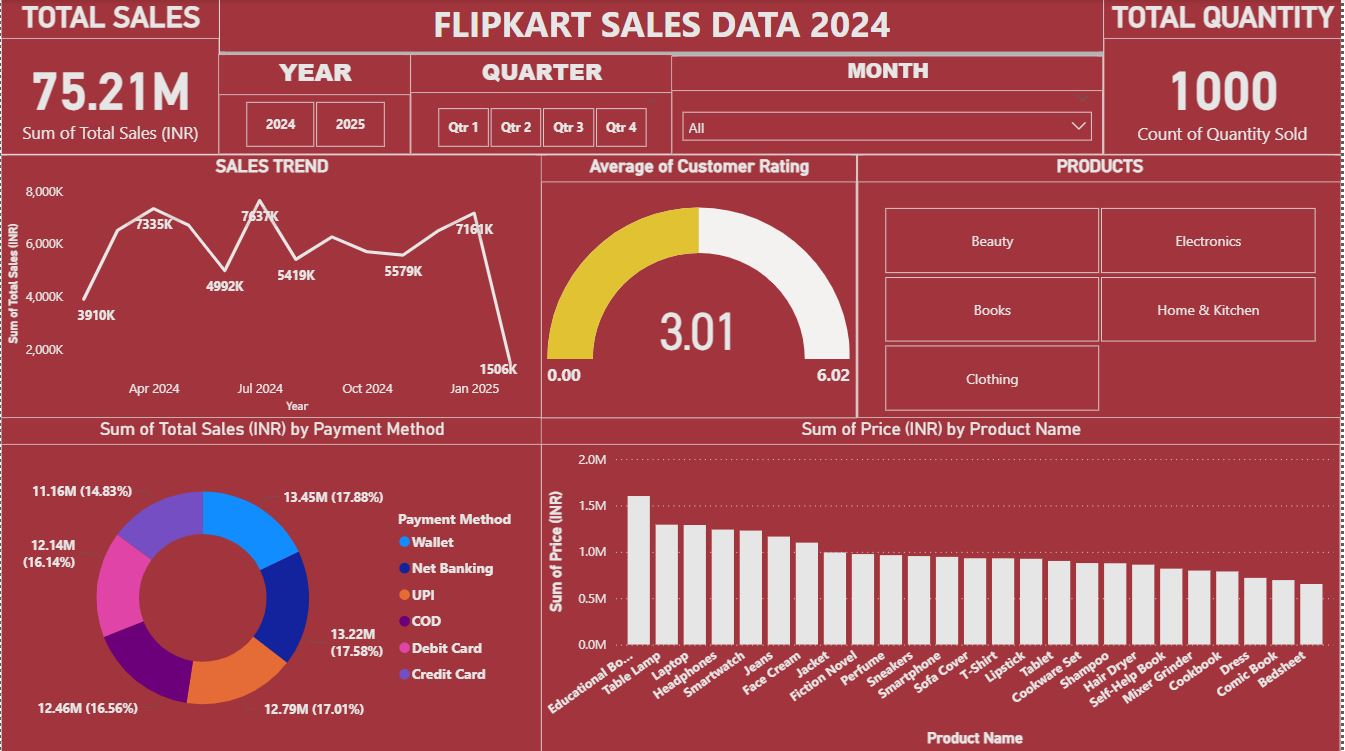

This screenshot's page, from the dashboard's own definition file:
{"tool":"powerbi","page":{"name":"Page 1","canvas":[1280,720],"ordinal":0},"visuals":[{"type":"textbox","title":"FLIPKART SALES DATA 2024","box":[209,0,843.4,54.5],"z":0},{"type":"card","title":"TOTAL SALES","fields":{"Values":["Sum(flipkart_sales.Total Sales (INR))"]},"box":[0,0,209,148.4],"z":1000},{"type":"card","title":"TOTAL QUANTITY","fields":{"Values":["CountNonNull(flipkart_sales.Quantity Sold)"]},"box":[1052.4,0,227.1,148.4],"z":2000},{"type":"slicer","title":"YEAR","fields":{"Values":["flipkart_sales.Order Date.Variation.Date Hierarchy.Year"]},"box":[207.4,53,183.2,95.4],"z":3000},{"type":"actionButton","box":[0,0,100,40],"z":4000},{"type":"slicer","title":"QUARTER","fields":{"Values":["flipkart_sales.Order Date.Variation.Date Hierarchy.Quarter"]},"box":[390.7,53,249.8,95.4],"z":5000},{"type":"slicer","title":"MONTH","fields":{"Values":["flipkart_sales.Order Date.Variation.Date Hierarchy.Month"]},"box":[640.5,54.5,411.9,93.9],"z":6000},{"type":"lineChart","title":"SALES TREND","fields":{"Category":["flipkart_sales.Order Date.Variation.Date Hierarchy.Year","flipkart_sales.Order Date.Variation.Date Hierarchy.Quarter","flipkart_sales.Order Date.Variation.Date Hierarchy.Month"],"Y":["Sum(flipkart_sales.Total Sales (INR))"]},"box":[0,148.4,516.3,251.4],"z":7000},{"type":"slicer","title":"PRODUCTS","fields":{"Values":["flipkart_sales.Category"]},"box":[817.7,148.4,461.8,251.4],"z":8000},{"type":"donutChart","title":"Sum of Total Sales (INR) by Payment Method","fields":{"Y":["Sum(flipkart_sales.Total Sales (INR))"],"Category":["flipkart_sales.Payment Method"]},"box":[0,399.8,516.3,319.5],"z":9000},{"type":"clusteredColumnChart","fields":{"Category":["flipkart_sales.Product Name"],"Y":["Sum(flipkart_sales.Price (INR))"]},"box":[516.3,399.8,763.2,319.5],"z":10000},{"type":"gauge","fields":{"Y":["Avg(flipkart_sales.Customer Rating)"]},"box":[516.3,148.4,301.3,251.4],"z":10002}]}

Visuals, with their boxes in screenshot pixels (x1, y1, x2, y2), scaled from the page's 1280x720 canvas onto the 1345x751 screenshot:
"FLIPKART SALES DATA 2024" textbox: l=220, t=0, r=1106, b=57
"TOTAL SALES" card: l=0, t=0, r=220, b=155
"TOTAL QUANTITY" card: l=1106, t=0, r=1344, b=155
"YEAR" slicer: l=218, t=55, r=410, b=155
actionButton: l=0, t=0, r=105, b=42
"QUARTER" slicer: l=411, t=55, r=673, b=155
"MONTH" slicer: l=673, t=57, r=1106, b=155
"SALES TREND" lineChart: l=0, t=155, r=543, b=417
"PRODUCTS" slicer: l=859, t=155, r=1344, b=417
"Sum of Total Sales (INR) by Payment Method" donutChart: l=0, t=417, r=543, b=750
clusteredColumnChart - flipkart_sales.Product Name x Sum(flipkart_sales.Price (INR)): l=543, t=417, r=1344, b=750
gauge - Avg(flipkart_sales.Customer Rating): l=543, t=155, r=859, b=417
